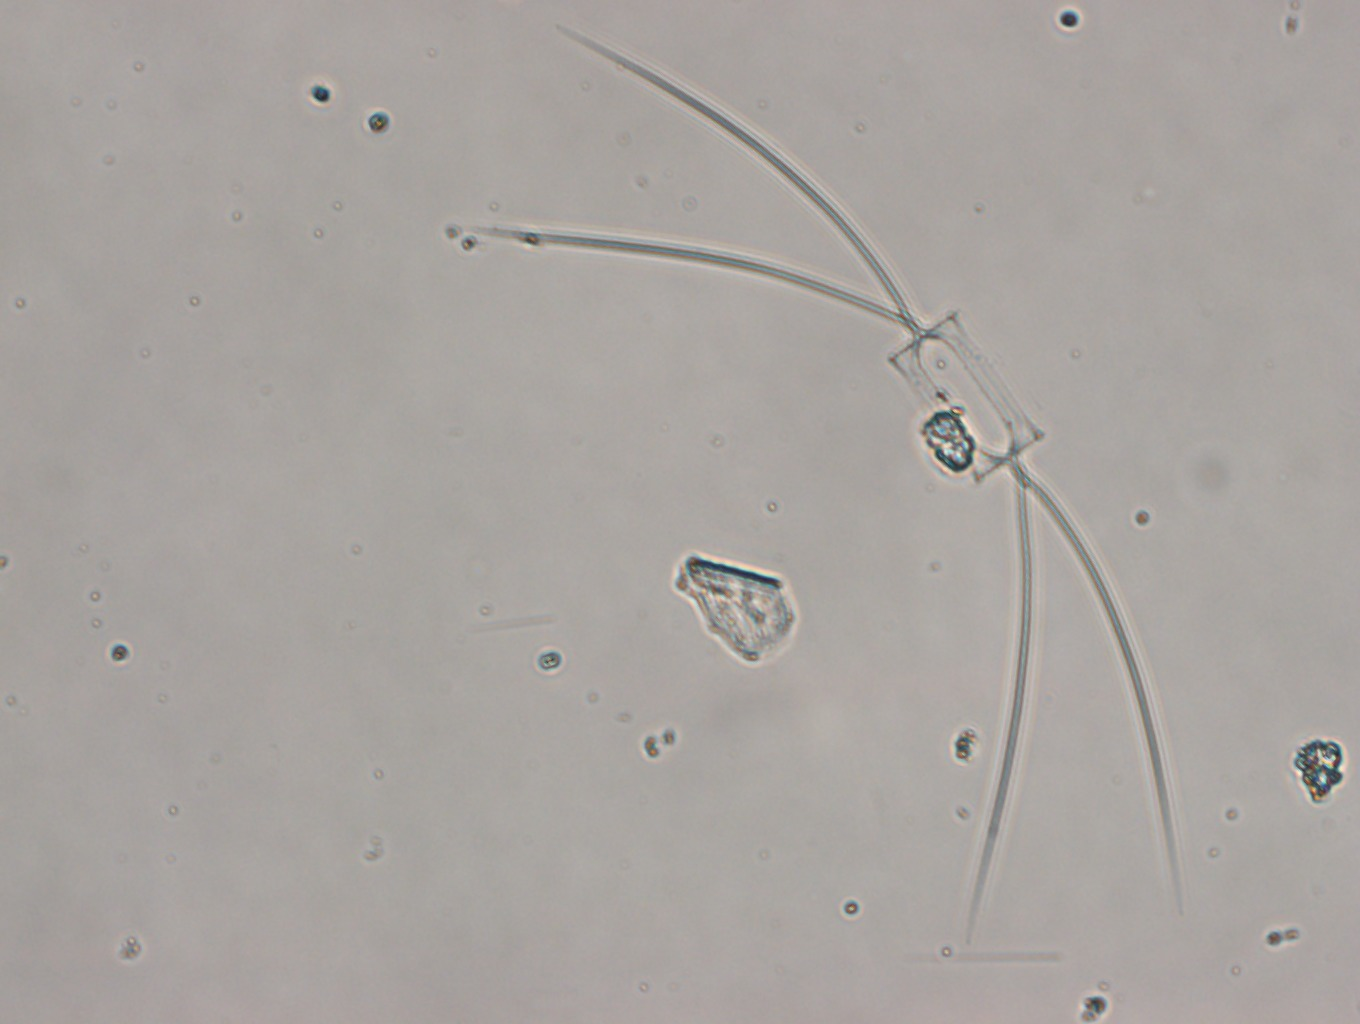chaetoceros: (476, 25, 1184, 923)
